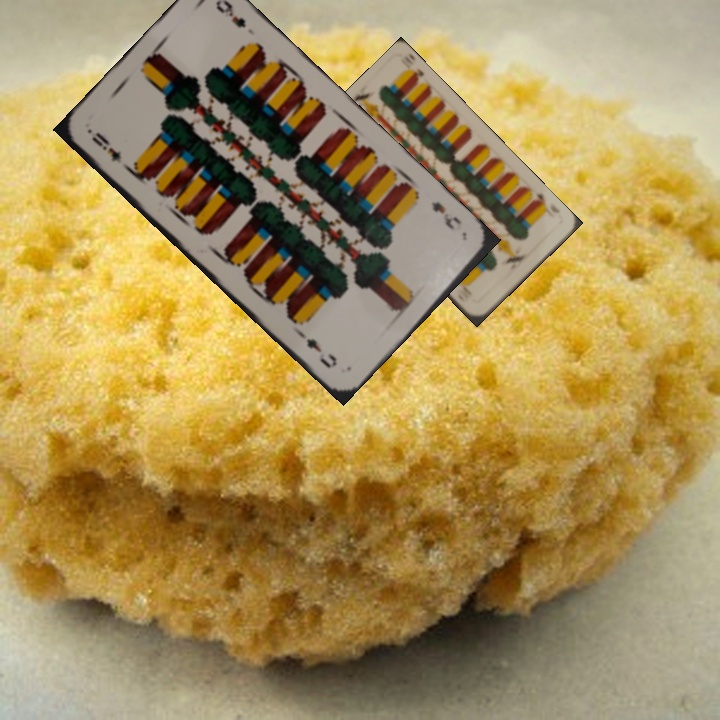E10: (528, 189, 549, 210)
E9: (87, 128, 124, 166), (427, 197, 465, 233)
